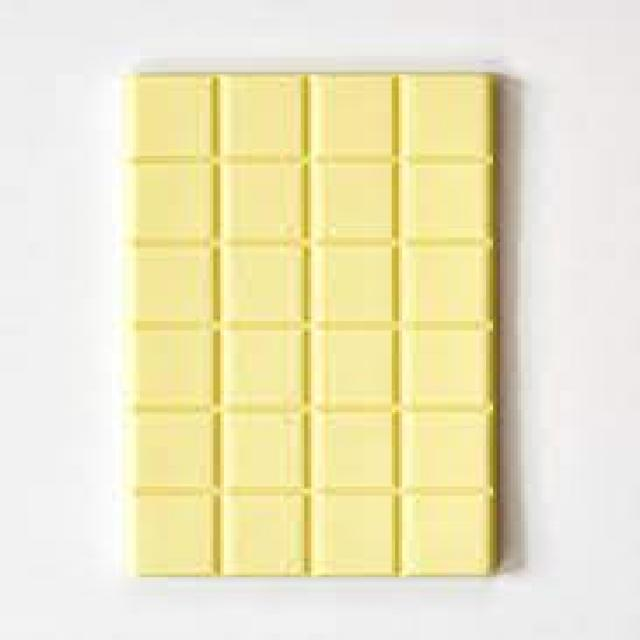Chocolate: (121, 65, 511, 579)
